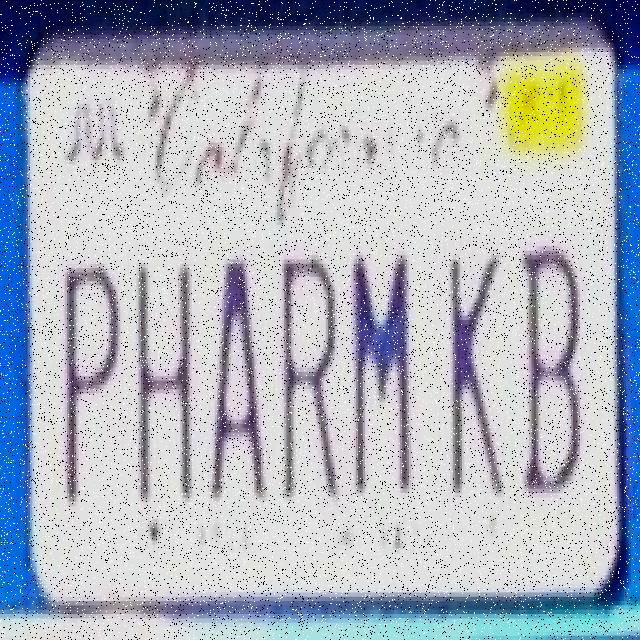licenseplate: (3, 8, 634, 632)
